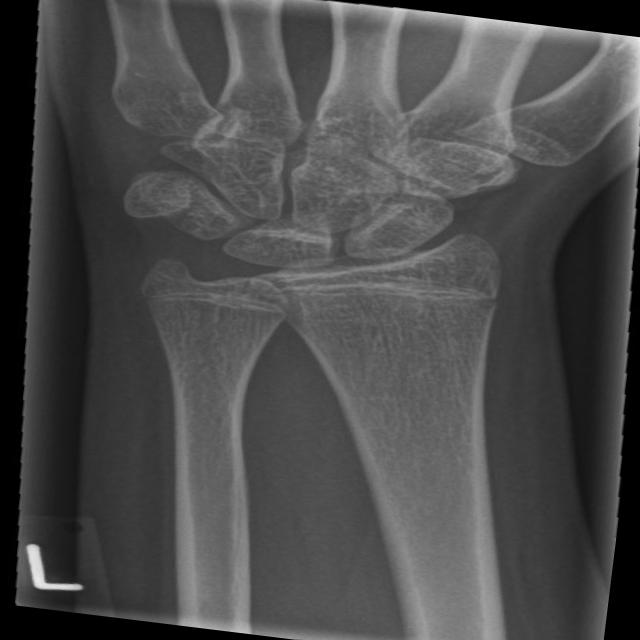fracture: (242, 244, 519, 340), (116, 262, 305, 336)
